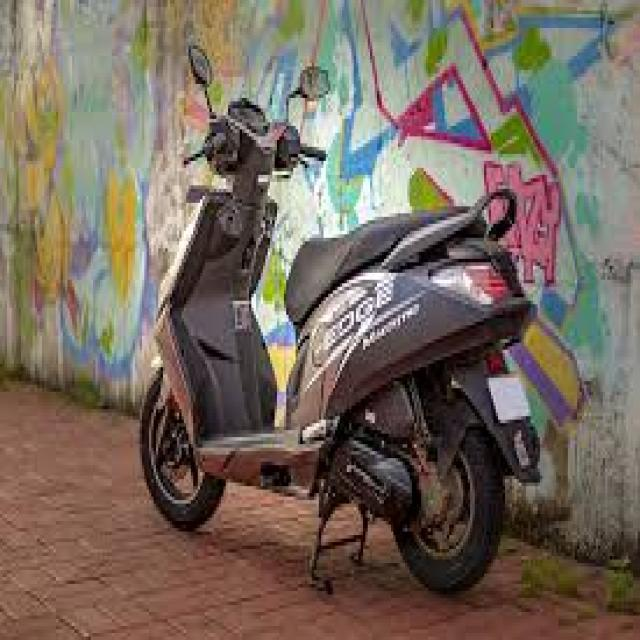Bike: (142, 28, 543, 603)
